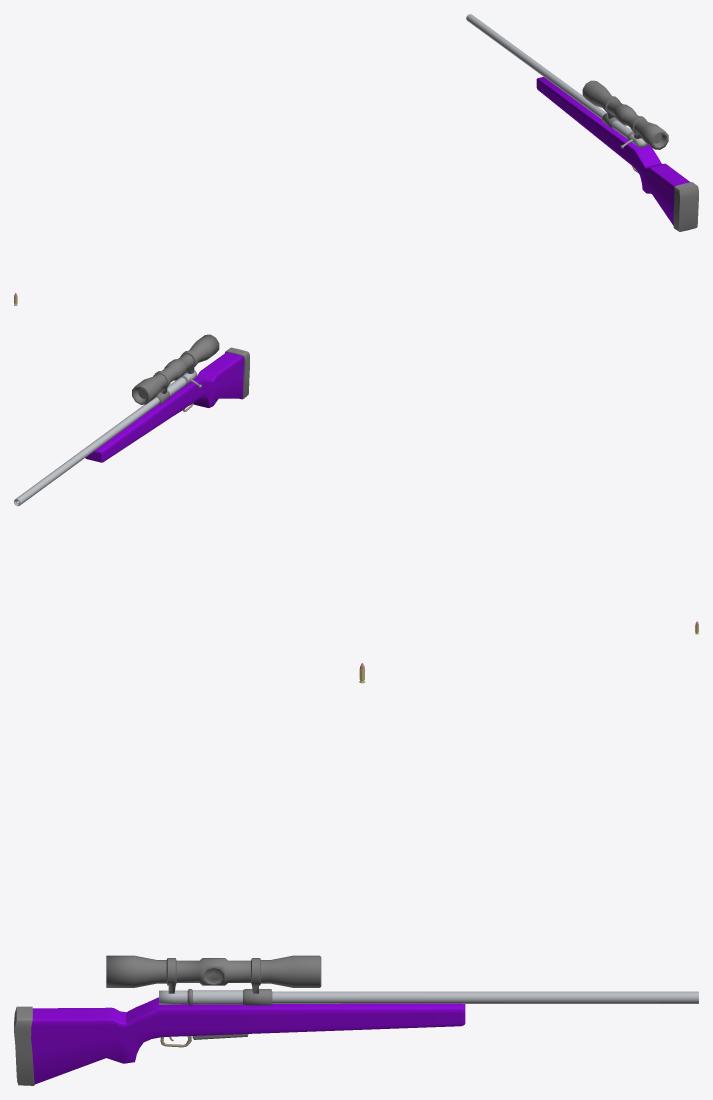
Rendered from sniper.fbx.
The picture shows the model from 3 angles, top to bottom: view 1: azimuth 30°, elevation 25°; view 2: azimuth 150°, elevation 25°; view 3: azimuth 270°, elevation 25°; orthographic projection. The views are drawn at different scales.
Visible parts, largest first — view 1: SniperBase.Rood, SniperScope.rood; view 2: SniperBase.Rood, SniperScope.rood; view 3: SniperBase.Rood, SniperScope.rood.
Boxes of the visible parts, left/top/right/bottom form: SniperBase.Rood: left=536, top=77, right=698, bottom=231; SniperScope.rood: left=466, top=14, right=668, bottom=149; SniperBase.Rood: left=85, top=347, right=249, bottom=462; SniperScope.rood: left=14, top=334, right=219, bottom=506; SniperBase.Rood: left=14, top=997, right=465, bottom=1085; SniperScope.rood: left=106, top=955, right=698, bottom=1005.
Size of the model in its own units: 180 by 29.32 by 120.
